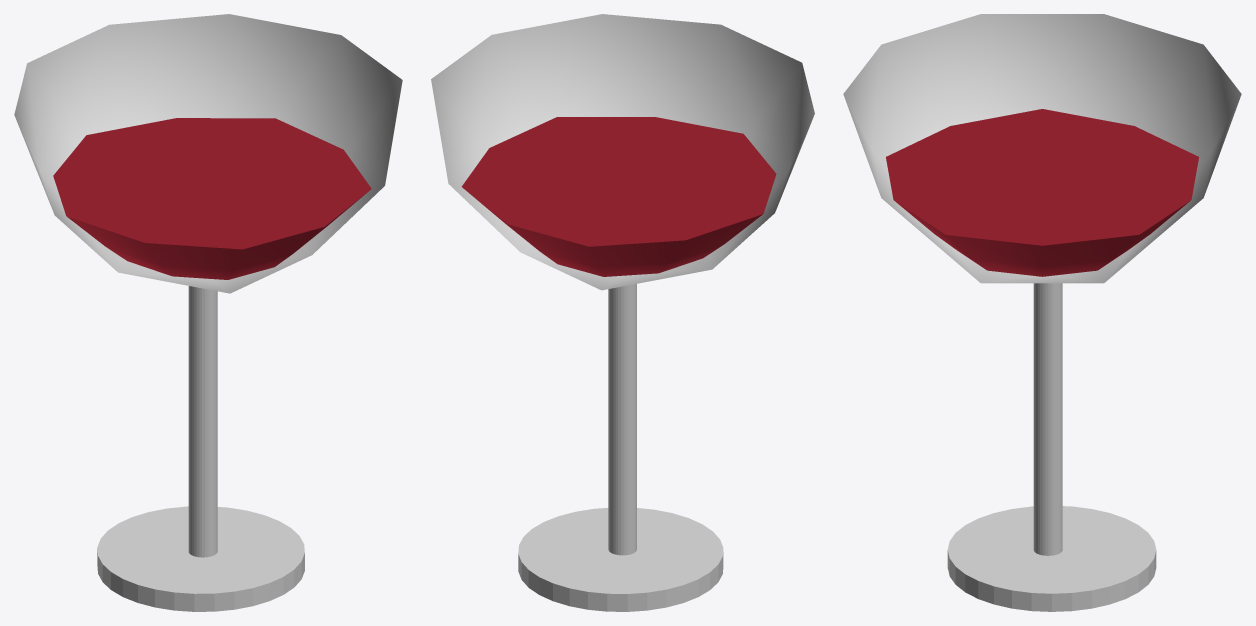
Rendered from WineGlass.glb.
3 views of the same model, side by side, from view 1: azimuth 30°, elevation 25°; view 2: azimuth 150°, elevation 25°; view 3: azimuth 270°, elevation 25° (orthographic).
Parts seen in each view (by area): view 1: Glasses.002, Glasses.004; view 2: Glasses.002, Glasses.004; view 3: Glasses.002, Glasses.004.
Part boxes in pixels (left/top/right/bottom): Glasses.002: left=14, top=14, right=402, bottom=611; Glasses.004: left=53, top=118, right=371, bottom=279; Glasses.002: left=431, top=14, right=814, bottom=611; Glasses.004: left=461, top=117, right=776, bottom=276; Glasses.002: left=843, top=14, right=1241, bottom=611; Glasses.004: left=886, top=109, right=1198, bottom=276.
Size of the model in its own units: 0.1273 by 0.1761 by 0.1338.
Materials: 1 (1 with a texture image).
